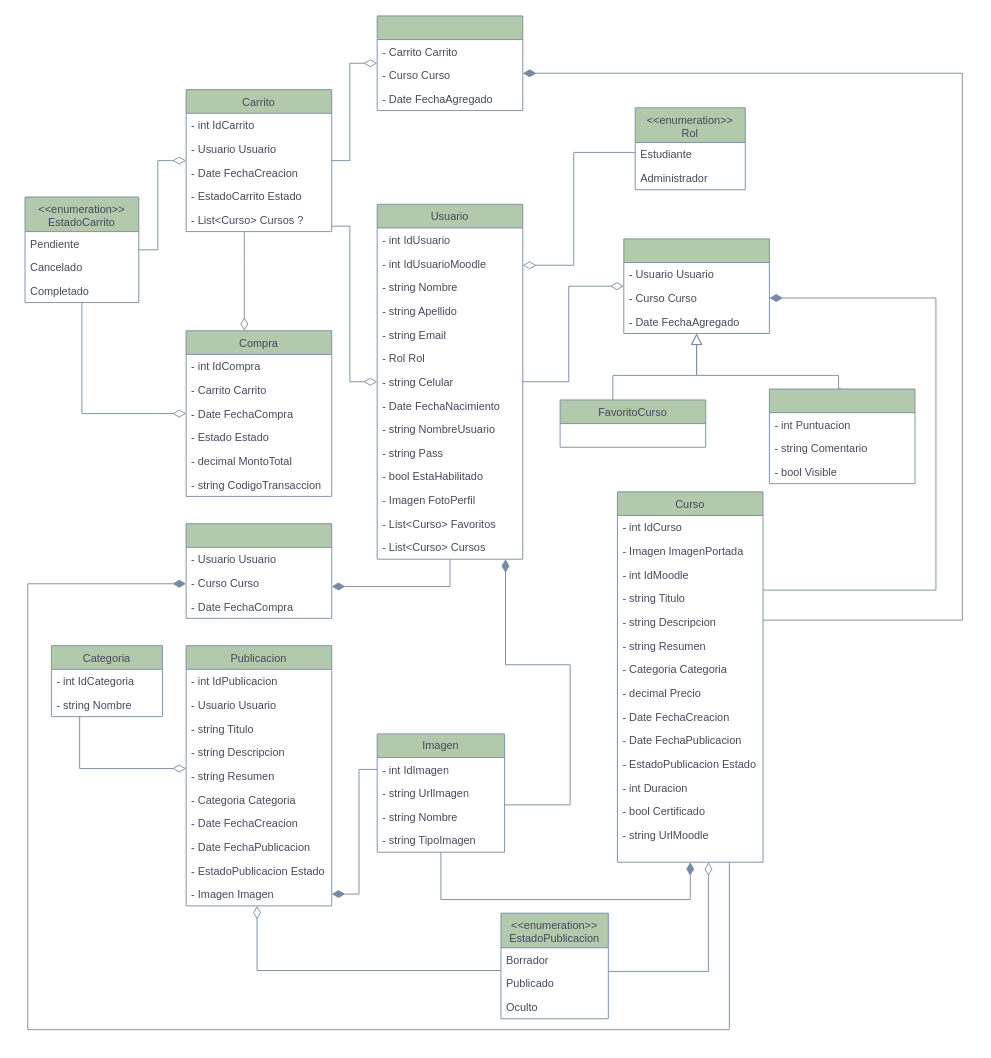
Some shapes in this 991 by 1058 pixel diagram are drawn without their labels. Here are the shapes that lost their labels. From the top down, the box of each, then its label:
(376, 15, 523, 111): CarritoCurso
(623, 238, 769, 334): InteraccionCurso
(768, 388, 915, 484): PuntuacionCurso
(185, 523, 332, 618): CompraCurso
